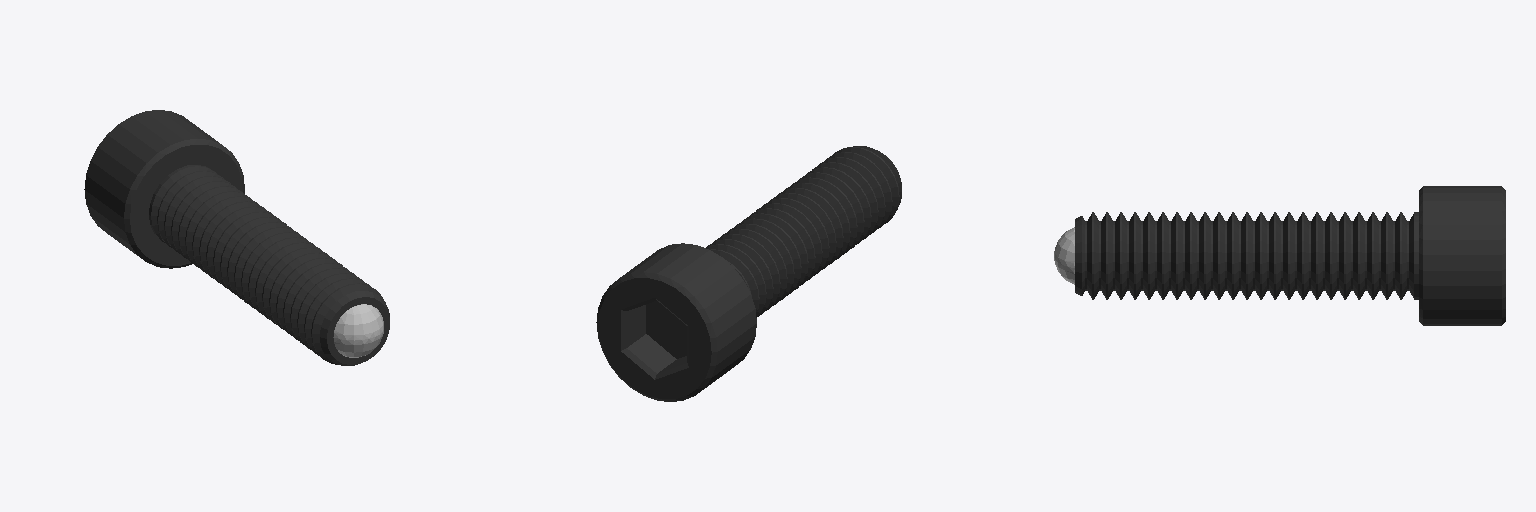
File: bcr-10x40.obj
3 renders of one model, left to right at view 1: azimuth 30°, elevation 25°; view 2: azimuth 150°, elevation 25°; view 3: azimuth 270°, elevation 25°, orthographic.
Visible parts, largest first — view 1: bcr-10x40_1; view 2: bcr-10x40_1; view 3: bcr-10x40_1.
Boxes of the visible parts, <box> form: bcr-10x40_1: <box>84,110,389,365</box>; bcr-10x40_1: <box>596,146,901,401</box>; bcr-10x40_1: <box>1054,186,1505,325</box>.
Bounding box in the file's own units: 16 × 16 × 51.7.